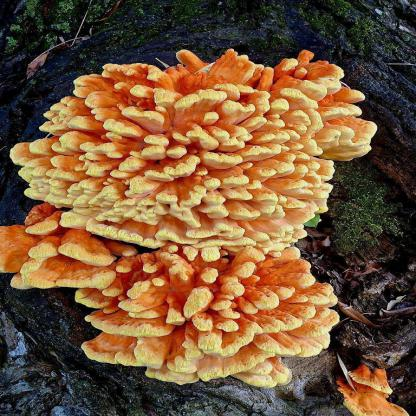CoW: (1, 50, 378, 389)
